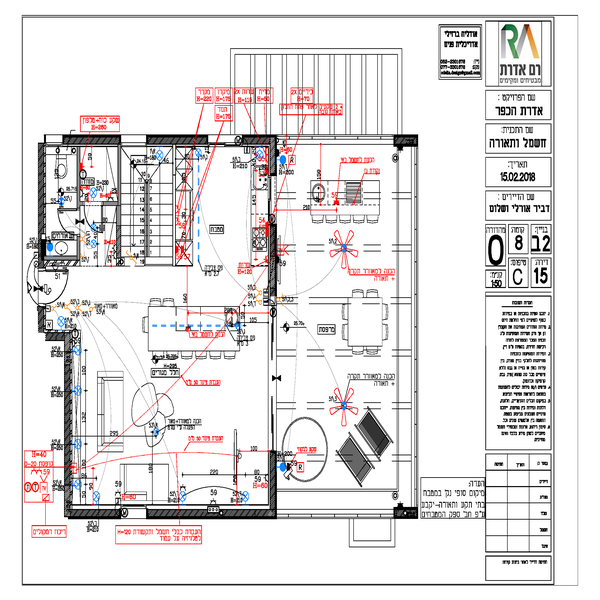door: (34, 270, 69, 305), (82, 197, 109, 233), (55, 204, 78, 234)
room: (65, 334, 277, 521), (39, 132, 281, 268)
wall: (64, 328, 74, 516), (144, 508, 274, 522), (37, 148, 47, 271), (63, 132, 125, 146), (148, 132, 207, 144), (117, 141, 123, 254), (267, 224, 276, 291), (239, 134, 275, 149), (72, 507, 119, 518), (77, 148, 82, 211), (42, 255, 77, 263)
window: (267, 299, 277, 451), (207, 132, 236, 152), (267, 173, 277, 215), (126, 132, 141, 155), (124, 507, 145, 522)
